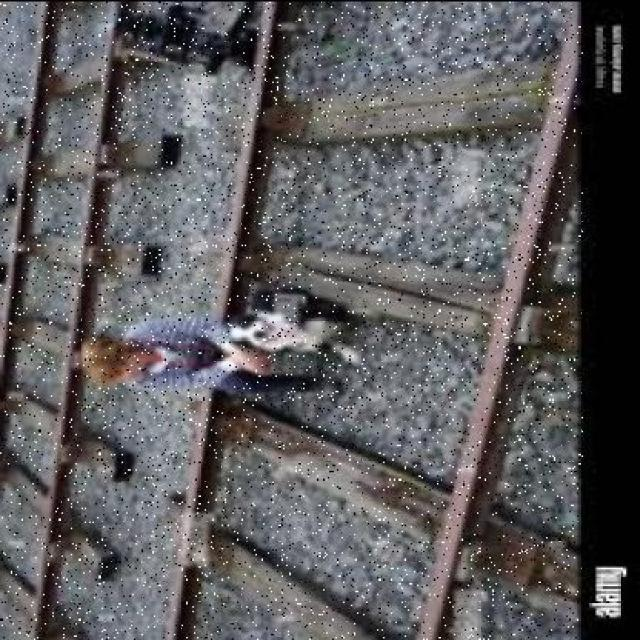danger: (69, 306, 329, 411), (216, 288, 370, 357)
rail: (0, 0, 583, 640)
